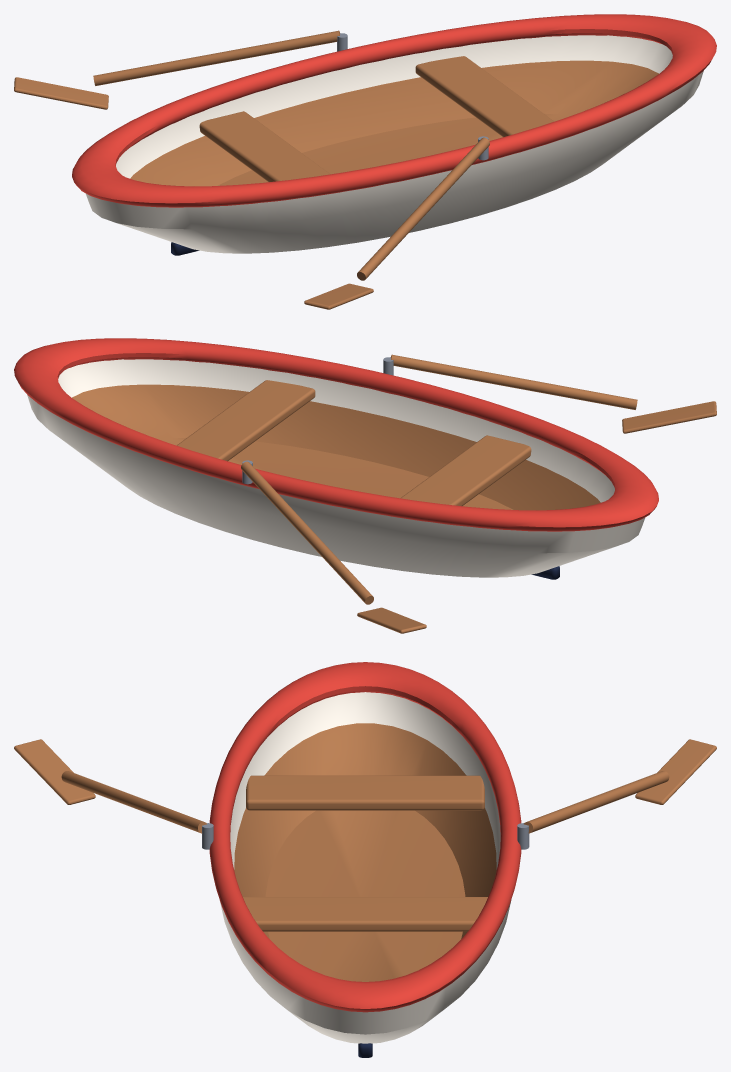
The model's file is rowboat.glb.
The picture shows the model from 3 angles, top to bottom: view 1: azimuth 30°, elevation 25°; view 2: azimuth 150°, elevation 25°; view 3: azimuth 270°, elevation 25°; orthographic projection. The views are drawn at different scales.
Visible parts, largest first — view 1: rowboat; view 2: rowboat; view 3: rowboat.
Part boxes in pixels (x1,y1,x2,y2): rowboat: (14, 14, 716, 309); rowboat: (14, 338, 716, 633); rowboat: (14, 662, 716, 1057).
Bounding box in the file's own units: 3.41 × 0.5746 × 2.94.
1 material, 1 textured.
